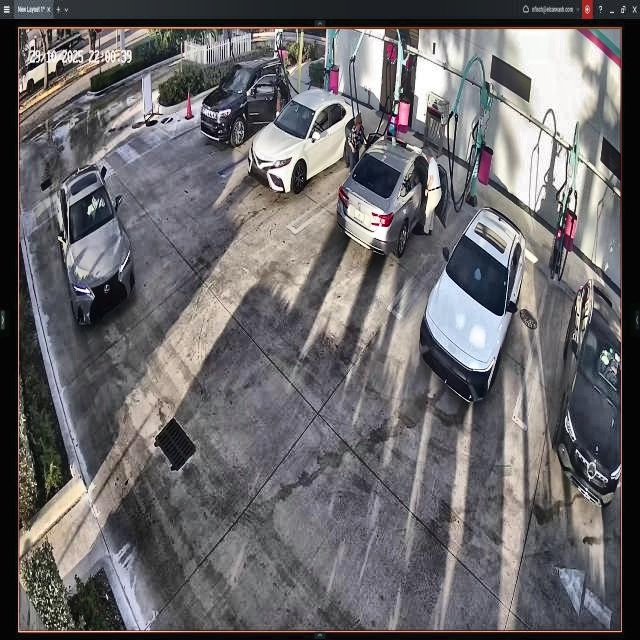Car: (420, 209, 525, 403), (339, 135, 446, 255), (252, 90, 360, 189), (200, 57, 291, 148)
